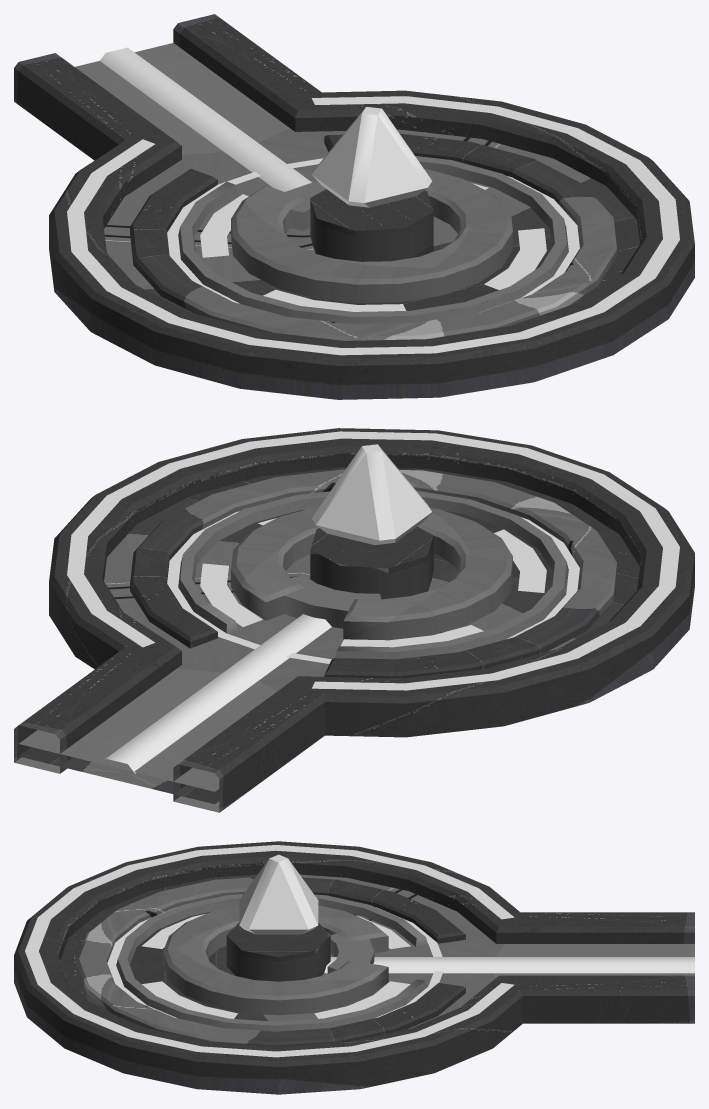
The model's file is Connecter_end.fbx.
3 renders of one model, top to bottom at view 1: azimuth 30°, elevation 25°; view 2: azimuth 150°, elevation 25°; view 3: azimuth 270°, elevation 25°, orthographic. The views are drawn at different scales.
Visible parts, largest first — view 1: Connecter_end_body, Connecter_end_cainLight, Pyramid017, Connecter_end_line; view 2: Connecter_end_body, Connecter_end_cainLight, Pyramid017, Connecter_end_line; view 3: Connecter_end_body, Connecter_end_cainLight, Connecter_end_line, Pyramid017.
Part boxes in pixels (<box>): Connecter_end_body: <box>14,14,694,399</box>; Connecter_end_cainLight: <box>67,96,679,355</box>; Pyramid017: <box>312,106,431,207</box>; Connecter_end_line: <box>100,47,311,191</box>; Connecter_end_body: <box>14,428,694,812</box>; Connecter_end_cainLight: <box>67,431,679,690</box>; Pyramid017: <box>312,444,431,544</box>; Connecter_end_line: <box>102,614,331,773</box>; Connecter_end_body: <box>14,841,694,1094</box>; Connecter_end_cainLight: <box>25,845,514,1057</box>; Connecter_end_line: <box>324,957,694,973</box>; Pyramid017: <box>239,854,318,934</box>.
Bounding box in the file's own units: 61.06 × 15.81 × 78.53.
